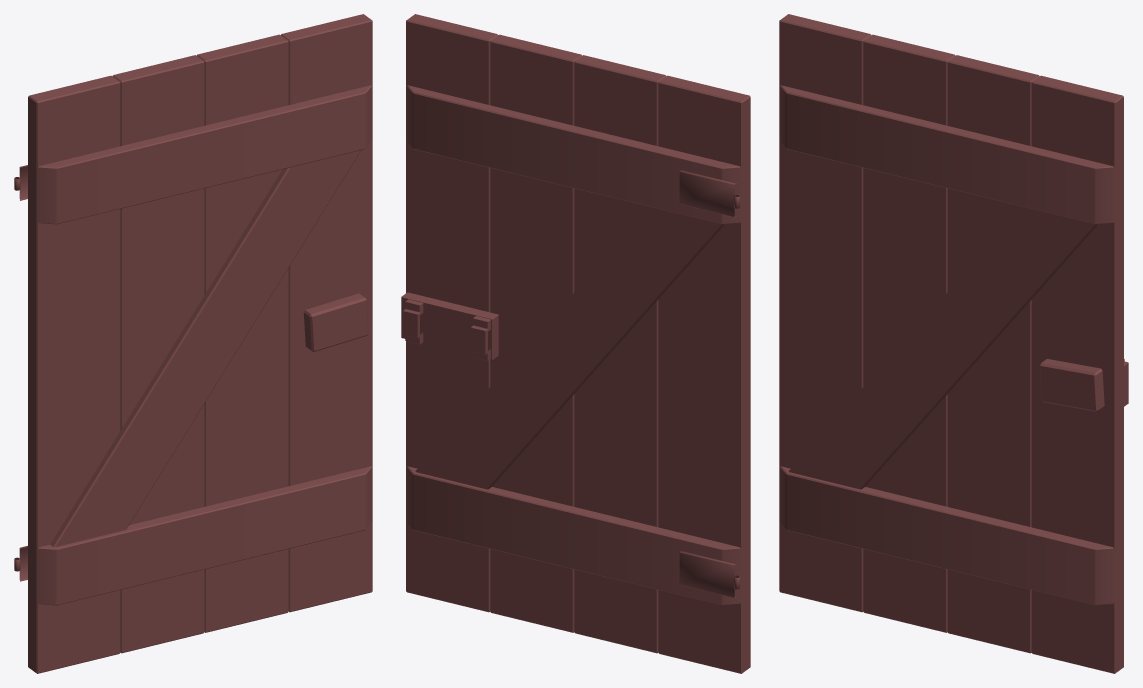
Rendered from Door.fbx.
3 renders of one model, left to right at view 1: azimuth 30°, elevation 25°; view 2: azimuth 150°, elevation 25°; view 3: azimuth 330°, elevation 25°, orthographic.
Parts seen in each view (by area): view 1: Door001; view 2: Door001; view 3: Door001.
Part boxes in pixels (<box>): Door001: <box>14,14,372,673</box>; Door001: <box>401,14,750,673</box>; Door001: <box>779,14,1128,673</box>.
Size of the model in its own units: 132 by 211 by 18.55.
